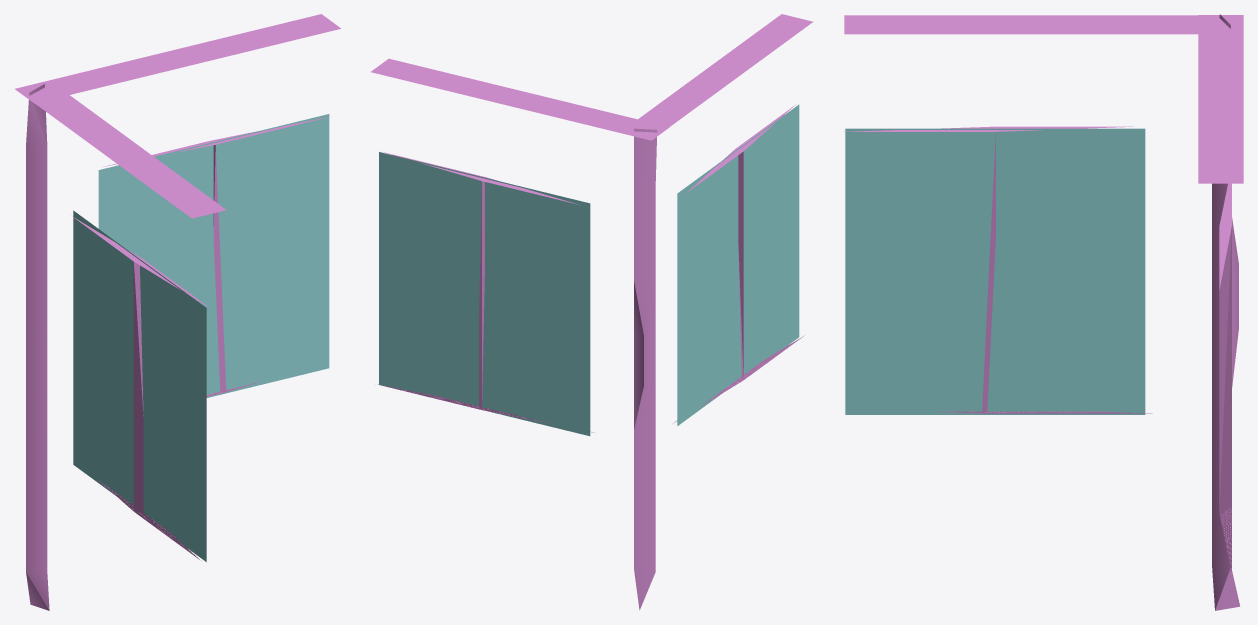
Rendered from sub_Handrail_coner_LOD1.fbx.
3 views of the same model, side by side, from view 1: azimuth 30°, elevation 25°; view 2: azimuth 150°, elevation 25°; view 3: azimuth 270°, elevation 25° (orthographic). The views are drawn at different scales.
Parts seen in each view (by area): view 1: sub_Handrail_coner_LOD1; view 2: sub_Handrail_coner_LOD1; view 3: sub_Handrail_coner_LOD1.
Part boxes in pixels (box(x1,y1,x2,y2)): sub_Handrail_coner_LOD1: box(15, 14, 340, 610); sub_Handrail_coner_LOD1: box(371, 14, 813, 610); sub_Handrail_coner_LOD1: box(844, 14, 1243, 610).
Bounding box in the file's own units: 1.06 × 1.71 × 1.06.
